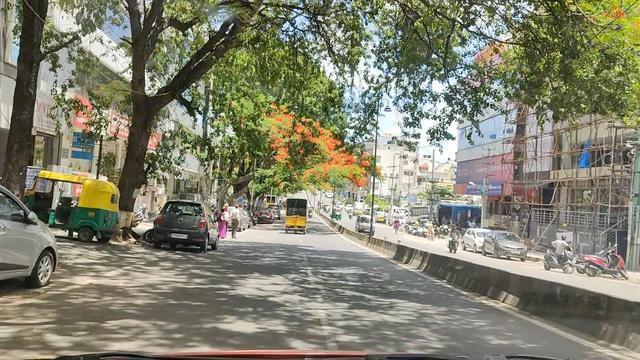HMV: (281, 197, 307, 237)
LMV: (149, 196, 217, 260)
